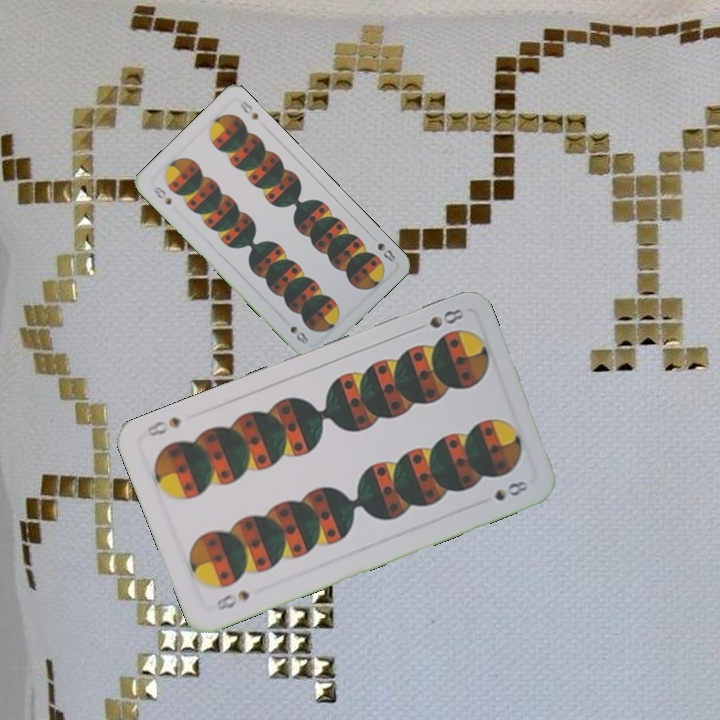S8: (410, 304, 467, 336), (212, 586, 253, 613), (366, 231, 398, 265), (149, 181, 174, 208)
